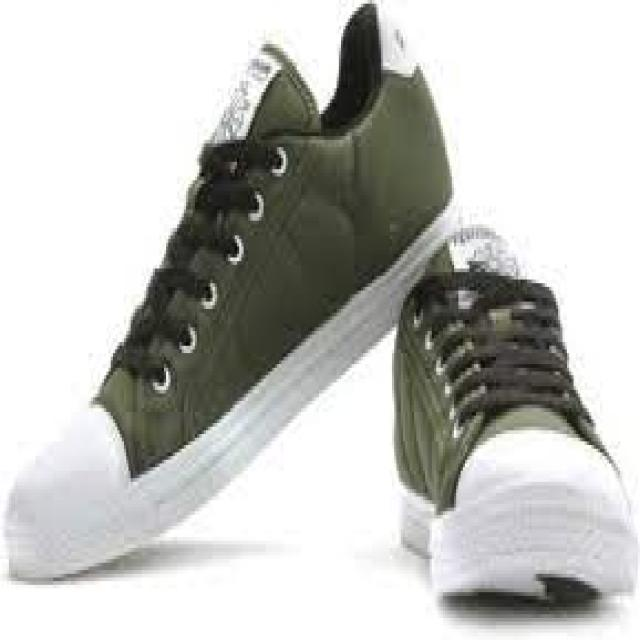shoe: (2, 1, 460, 583), (391, 222, 640, 604)
